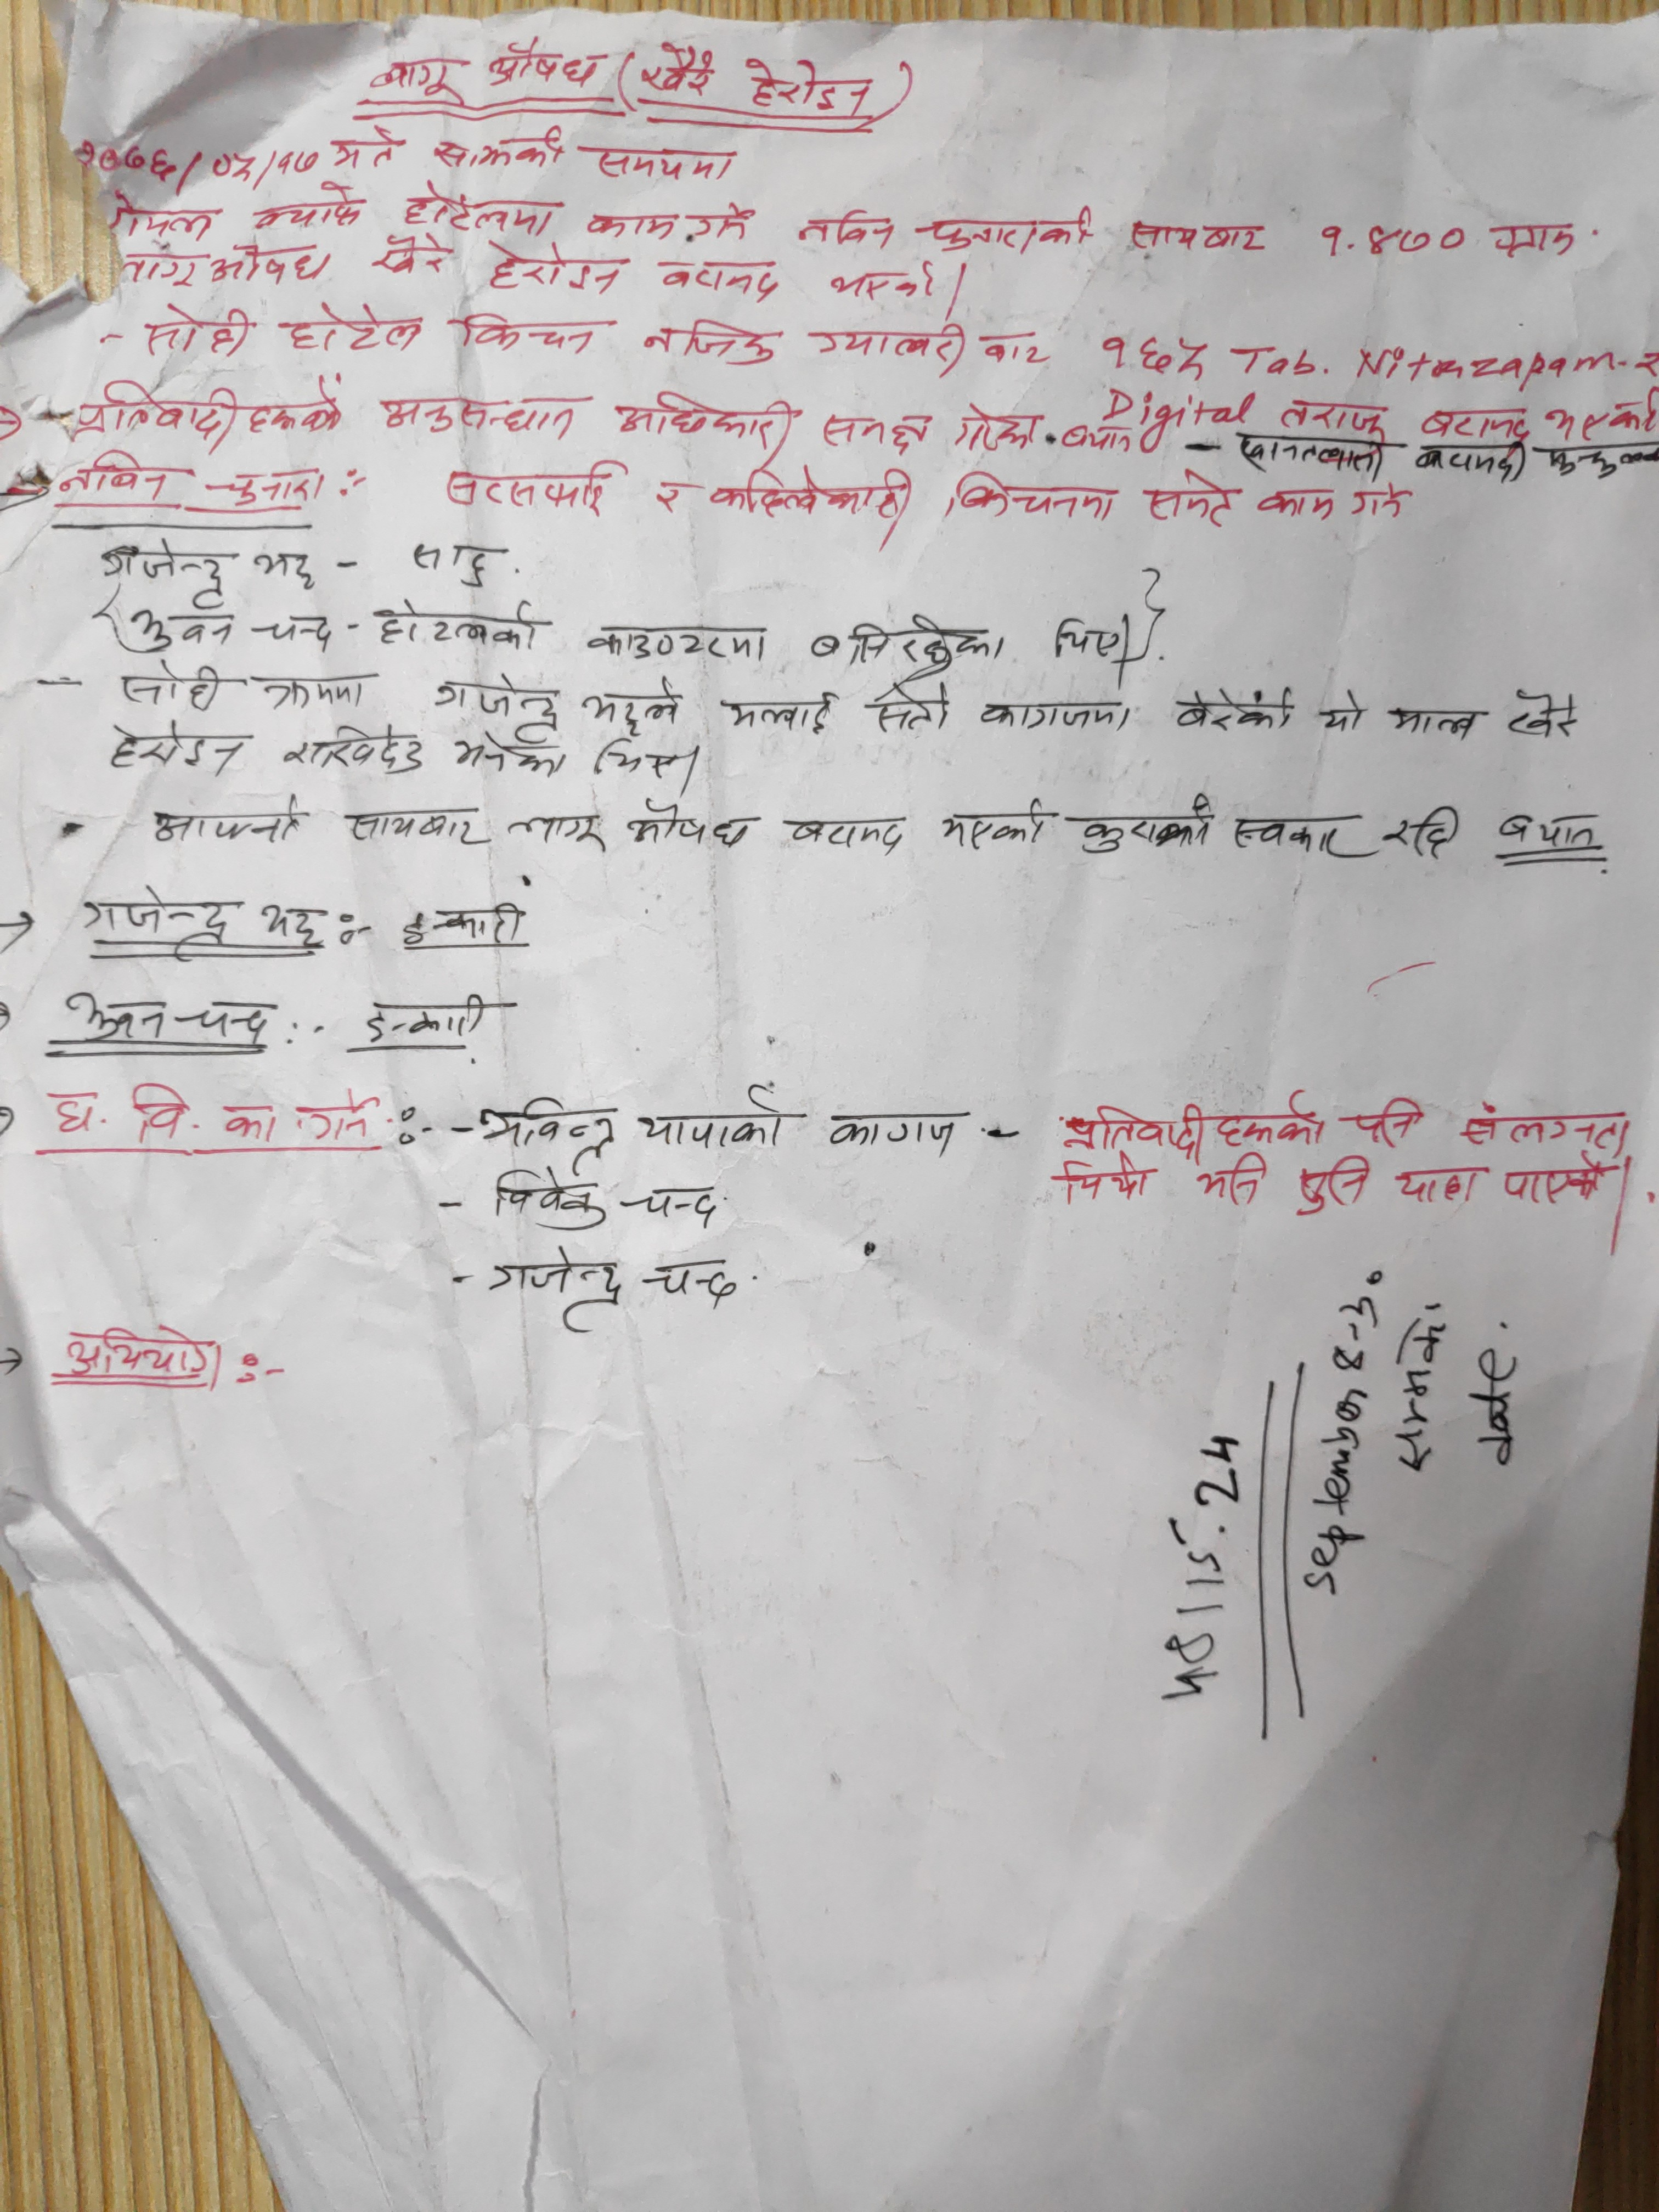text: (1060, 1083, 1326, 1155), (73, 378, 343, 448), (486, 1240, 624, 1336), (807, 613, 1021, 671), (443, 453, 622, 517), (371, 390, 579, 446), (638, 1082, 791, 1155), (945, 467, 1117, 529), (96, 536, 237, 613), (66, 988, 274, 1038), (373, 592, 538, 653), (1072, 786, 1220, 853), (1459, 1099, 1638, 1155), (476, 1094, 615, 1165), (1229, 806, 1378, 873), (577, 620, 772, 671), (613, 388, 795, 442), (401, 178, 552, 240), (922, 202, 1101, 254), (486, 235, 624, 303), (61, 1320, 232, 1374), (491, 1160, 608, 1237), (809, 319, 969, 374), (978, 678, 1134, 733), (430, 672, 565, 737), (101, 721, 249, 779), (150, 791, 305, 845), (282, 723, 427, 780), (80, 883, 228, 939), (744, 51, 871, 115), (282, 300, 422, 355), (51, 1085, 190, 1141), (627, 796, 756, 853), (460, 310, 608, 359), (427, 120, 568, 171), (345, 805, 493, 852), (934, 794, 1049, 853), (824, 1108, 964, 1157), (584, 669, 685, 735), (1312, 218, 1469, 260), (641, 315, 775, 364), (484, 37, 598, 94), (1129, 214, 1272, 260), (356, 993, 491, 1040), (1141, 465, 1239, 529), (1290, 1148, 1377, 1219), (1544, 387, 1659, 441), (143, 303, 253, 359), (119, 657, 225, 714), (206, 242, 335, 289), (1173, 683, 1297, 732), (455, 726, 566, 780), (52, 448, 167, 500), (249, 179, 362, 232), (1500, 1151, 1603, 1209), (784, 812, 908, 859), (587, 146, 739, 185), (828, 253, 943, 303), (721, 688, 836, 738), (653, 260, 784, 303), (202, 463, 329, 507), (1274, 394, 1391, 441), (1096, 331, 1208, 380), (641, 1254, 741, 1308), (821, 408, 932, 455), (950, 399, 1044, 455), (793, 206, 899, 254), (1060, 1151, 1152, 1207), (401, 904, 535, 942), (870, 674, 953, 735), (1380, 803, 1466, 862), (620, 1179, 727, 1226), (634, 40, 720, 98), (1417, 404, 1539, 444), (1391, 1160, 1483, 1212), (411, 536, 495, 592), (1344, 1094, 1429, 1148), (122, 613, 237, 653), (368, 52, 462, 99), (1506, 686, 1582, 744), (1493, 808, 1603, 848), (591, 738, 683, 786), (505, 810, 613, 850), (1195, 1148, 1269, 1205), (1389, 702, 1488, 744), (1483, 218, 1584, 258), (263, 676, 373, 712), (364, 233, 455, 275), (582, 206, 678, 244), (253, 611, 336, 653), (310, 1089, 376, 1141), (1256, 484, 1337, 526), (329, 124, 403, 167), (690, 197, 756, 242), (251, 547, 317, 592), (1054, 615, 1119, 660), (260, 904, 333, 942), (1347, 482, 1408, 526), (221, 1103, 284, 1144), (979, 331, 1049, 368), (1323, 685, 1366, 742), (652, 475, 692, 519)
